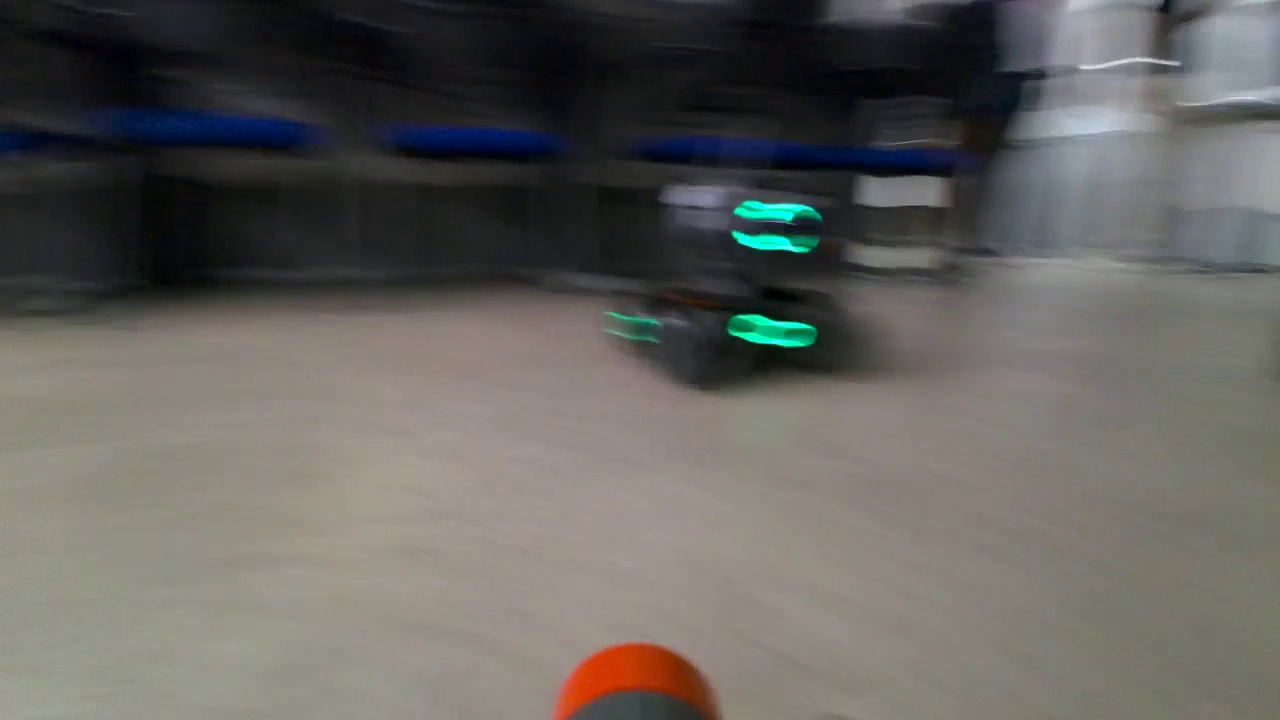robot: (596, 177, 856, 390)
